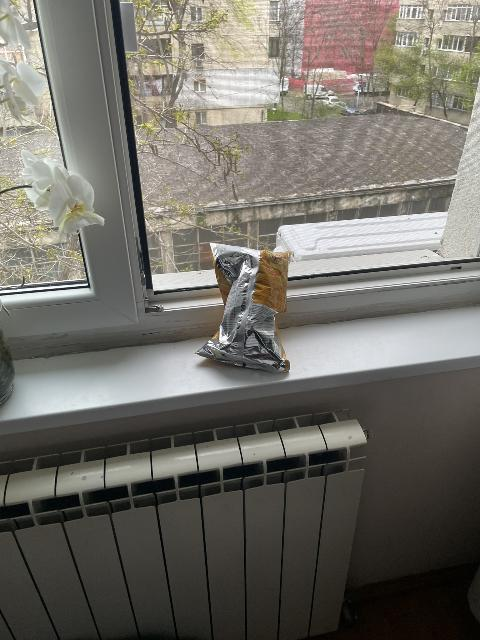Chio Hula Hoops Cheese 70g: (194, 242, 292, 370)
